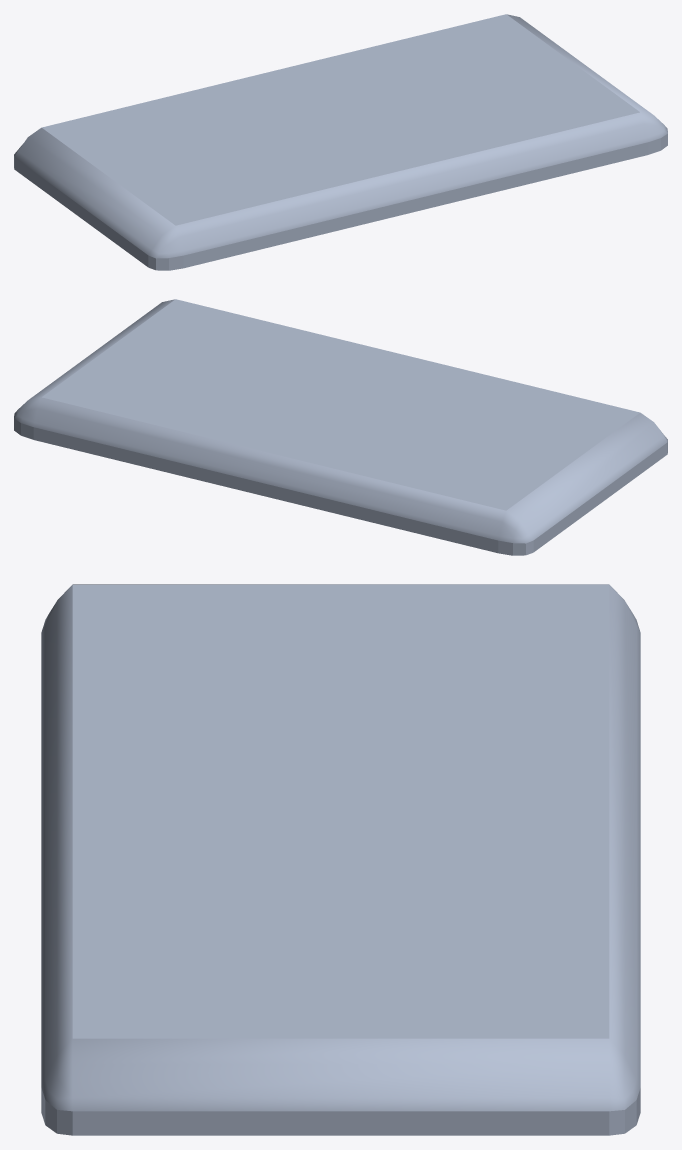
File: UI BUTTON TEST.fbx
The picture shows the model from 3 angles, top to bottom: view 1: azimuth 30°, elevation 25°; view 2: azimuth 150°, elevation 25°; view 3: azimuth 270°, elevation 25°; orthographic projection. The views are drawn at different scales.
Parts seen in each view (by area): view 1: Cube.001; view 2: Cube.001; view 3: Cube.001.
Boxes of the visible parts, left/top/right/bottom form: Cube.001: left=14, top=14, right=667, bottom=270; Cube.001: left=14, top=299, right=667, bottom=555; Cube.001: left=41, top=584, right=640, bottom=1135.
Size of the model in its own units: 4 by 0.2714 by 2.
